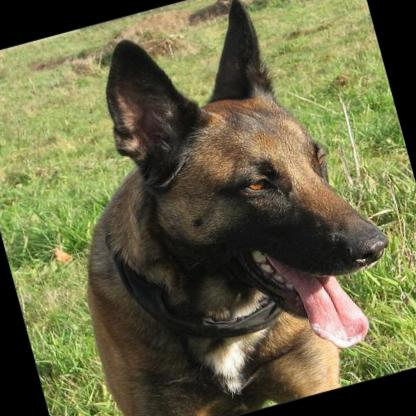malinois: (12, 0, 416, 416)
